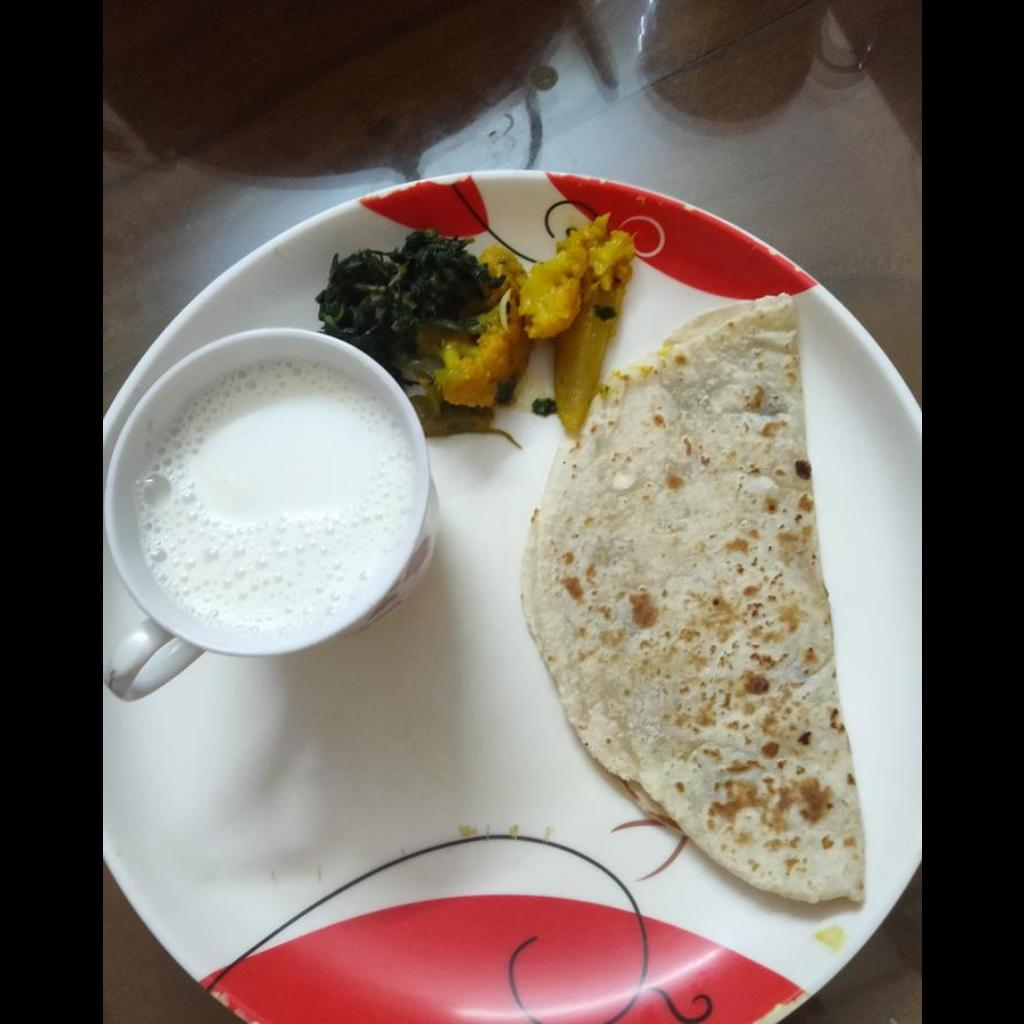cauliflower: (423, 214, 634, 433)
milk: (144, 363, 404, 627)
ruti: (519, 295, 872, 907)
shak: (318, 233, 503, 386)
